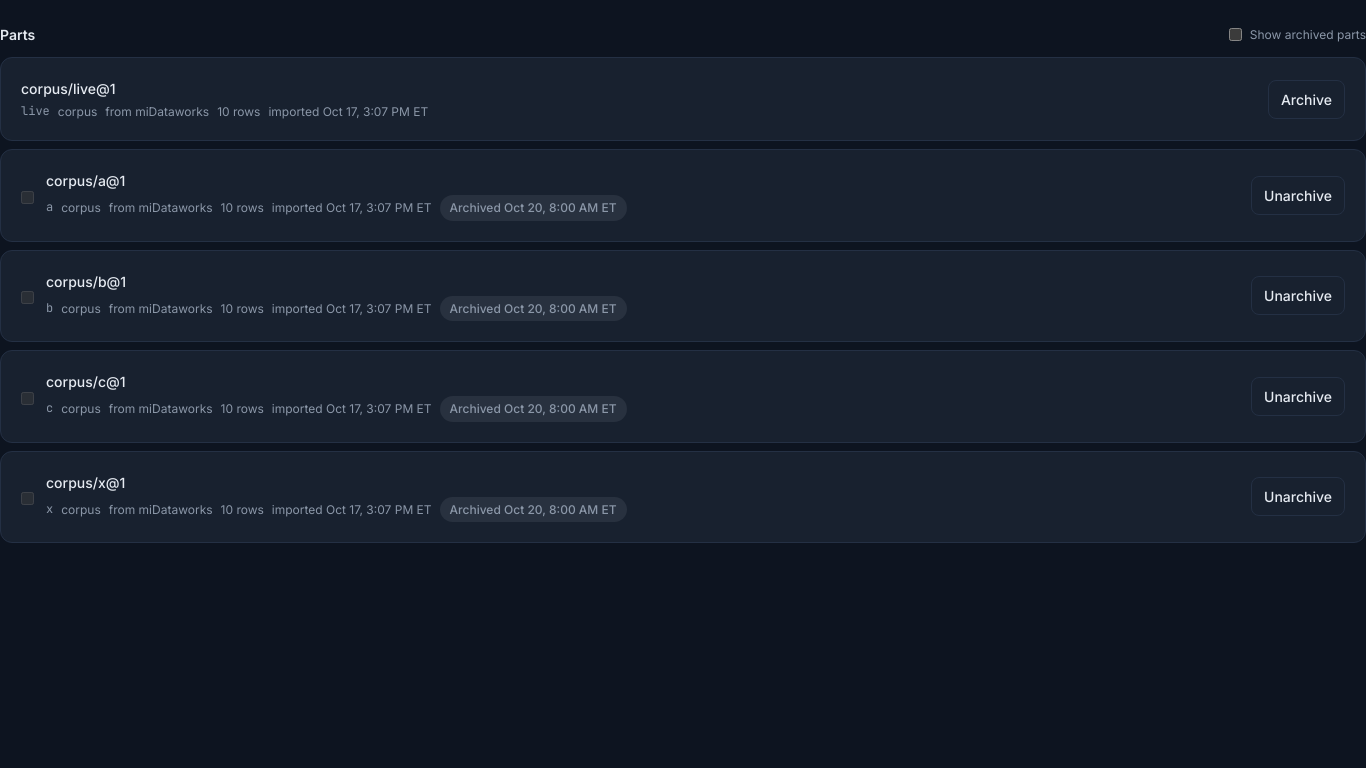
Scenario: [PurgeSelection] › should send nothing when the confirmation is cancelled
Check: the list item with test id "part-row-live" is shown, box [0,57,1365,141]
Click the checkbox with test id "part-show-archived" at (1235, 34), box [1229,28,1242,41]
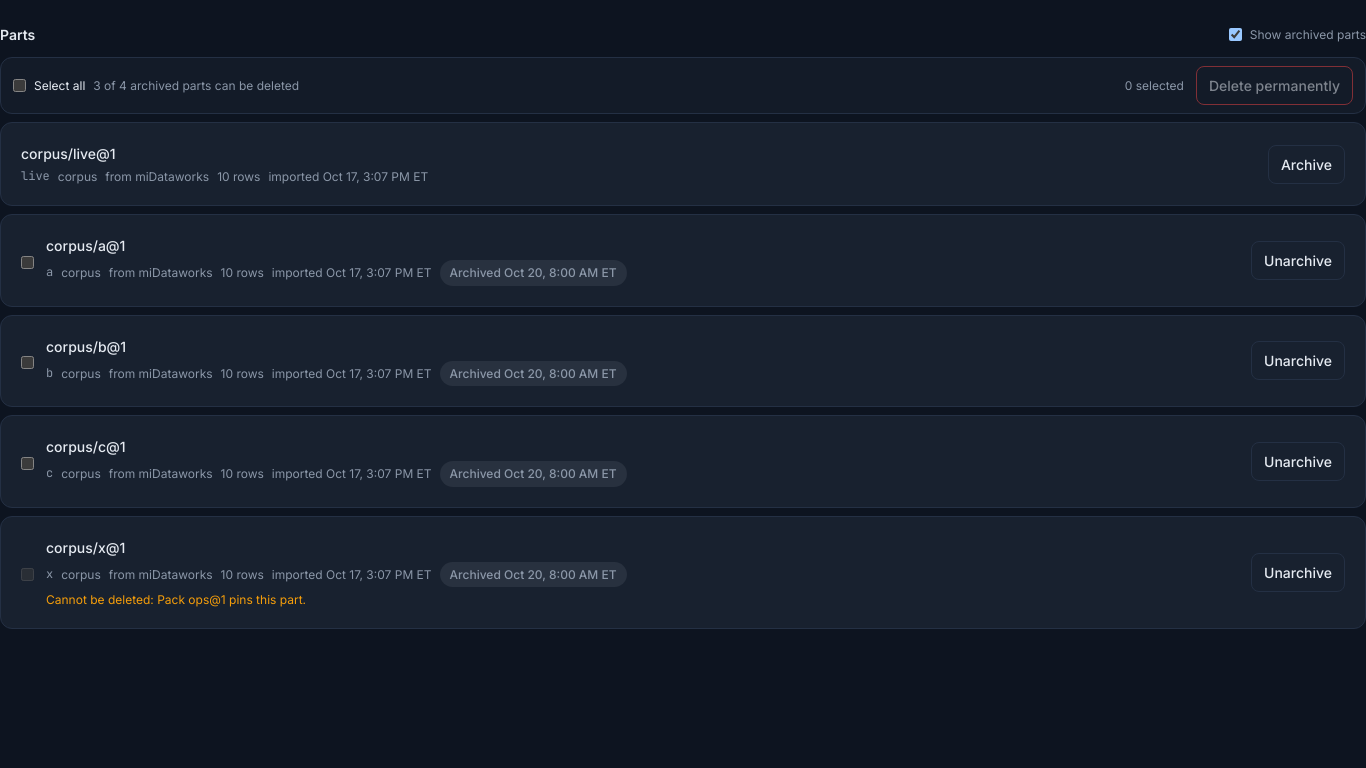
Click the checkbox named "Select corpus/a@1 for permanent deletion" at (28, 263), box [21,256,34,269]
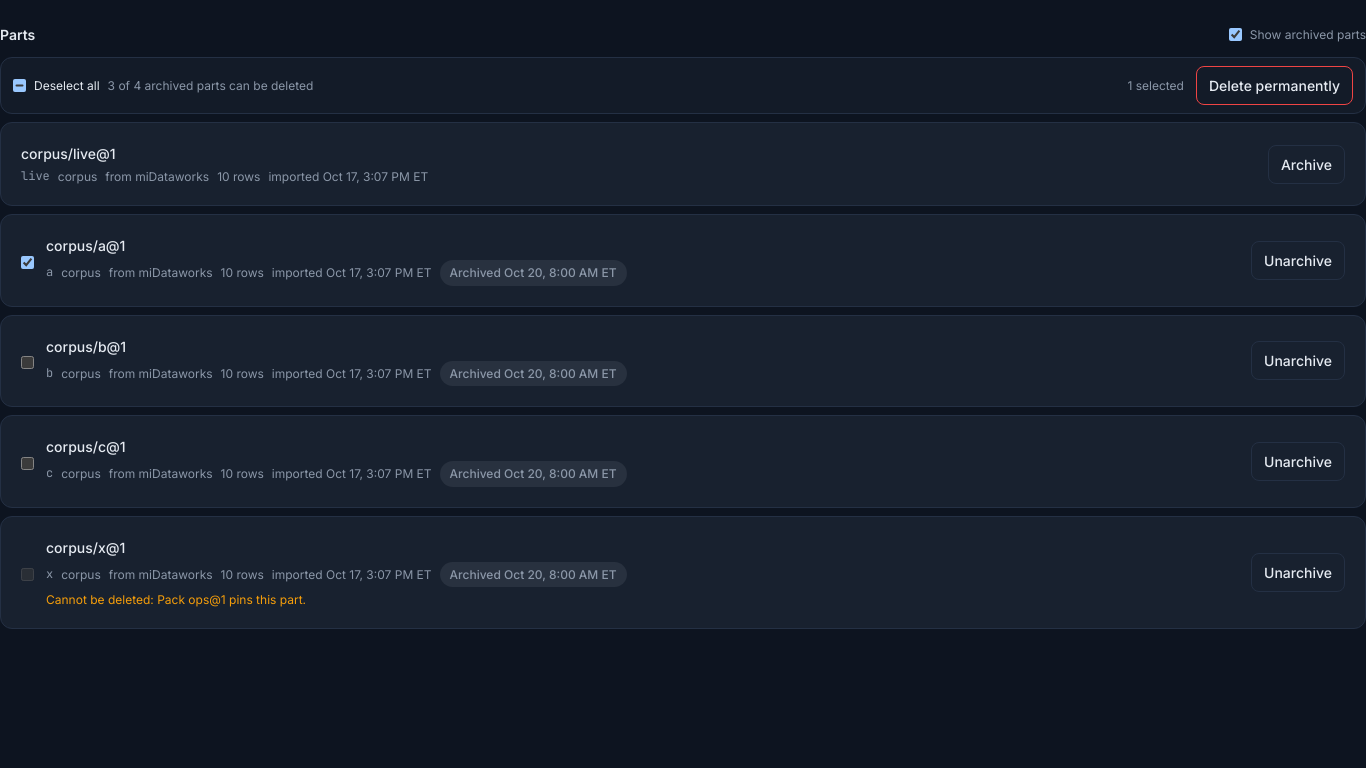
Click the button with test id "part-purge-delete" at (1274, 86), box [1196,66,1353,105]
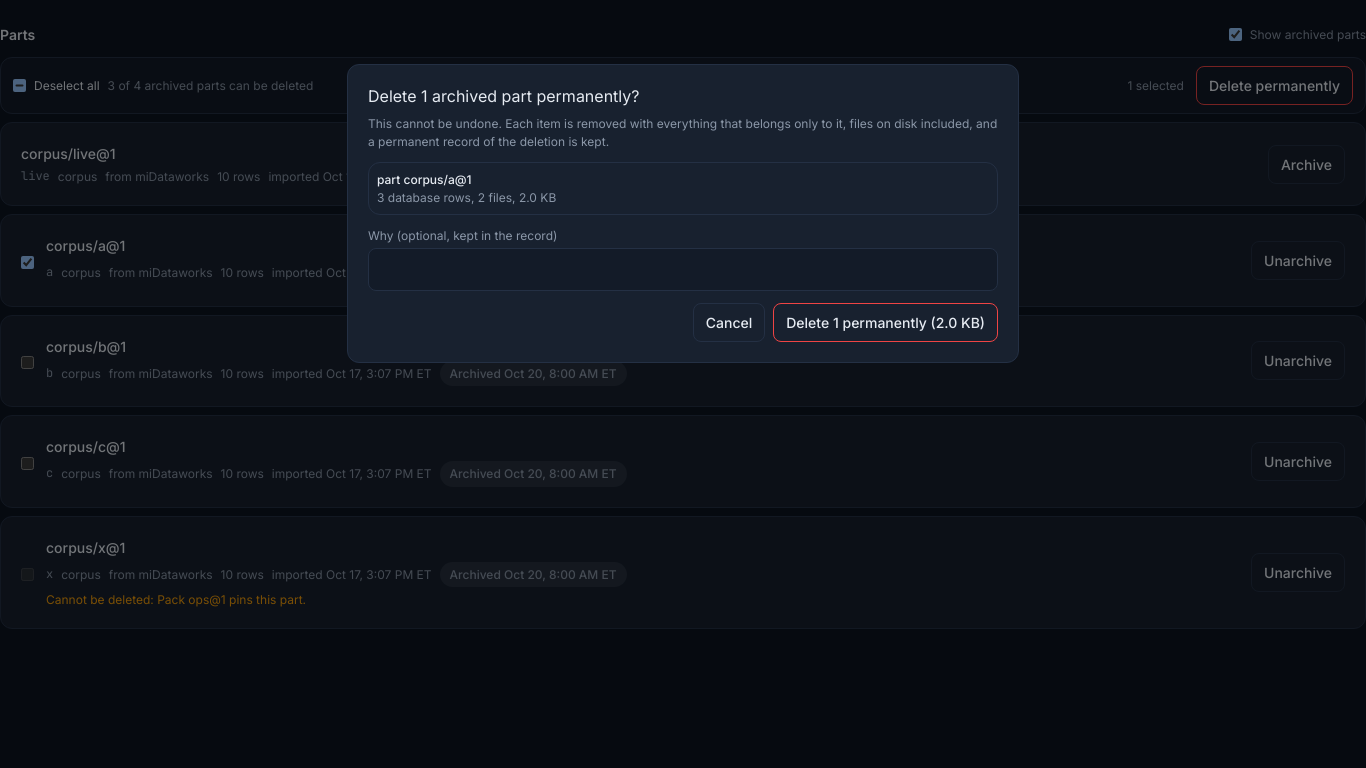
Check: the list item with test id "part-purge-going-a" is shown, box [368,162,998,215]
Click the button with test id "part-purge-cancel" at (729, 323), box [693,303,765,342]
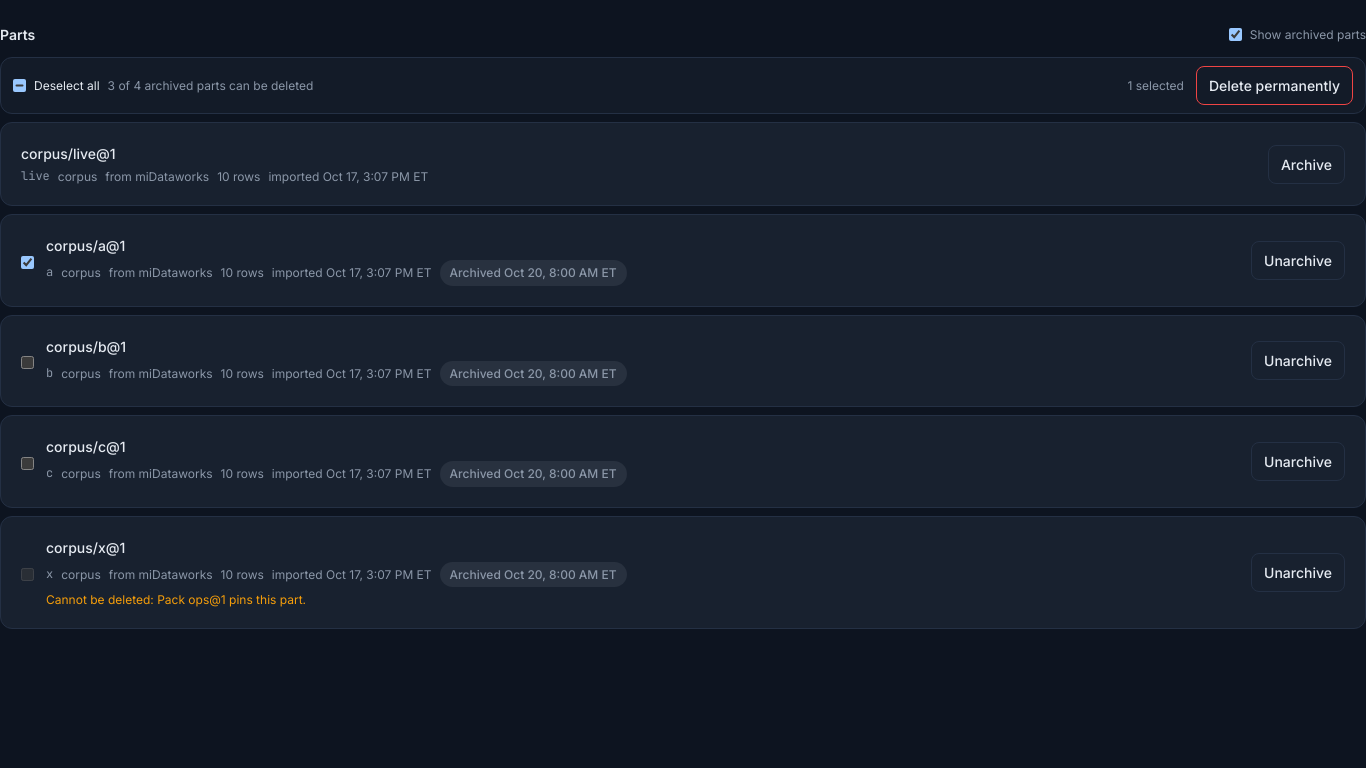
Check: the dialog with test id "part-purge-dialog" is gone
